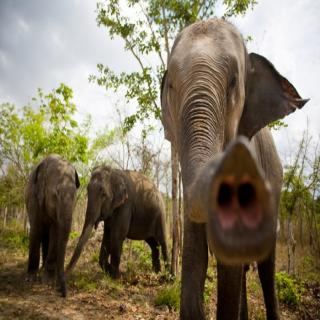Elephant: (158, 13, 314, 320), (72, 160, 172, 286), (24, 149, 81, 304)
